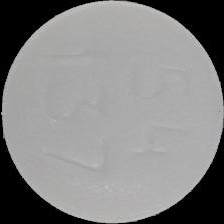61786-524: (0, 0, 224, 224)
